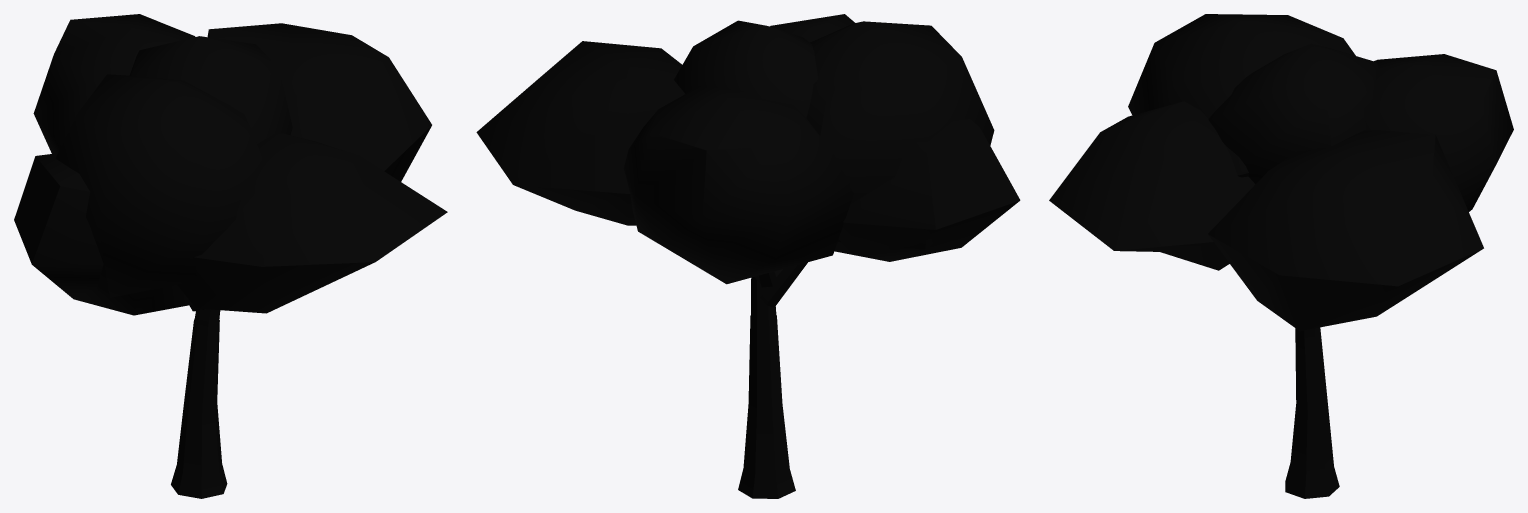
File: SM_oak.fbx
3 views of the same model, side by side, from view 1: azimuth 30°, elevation 25°; view 2: azimuth 150°, elevation 25°; view 3: azimuth 270°, elevation 25° (orthographic). The views are drawn at different scales.
Parts seen in each view (by area): view 1: oak_crown, oak; view 2: oak_crown, oak; view 3: oak_crown, oak.
Boxes of the visible parts, box(x1,y1,x2,y2) form: oak_crown: box(14, 14, 447, 326); oak: box(171, 319, 227, 498); oak_crown: box(476, 14, 1020, 319); oak: box(738, 315, 795, 498); oak_crown: box(1049, 14, 1513, 332); oak: box(1285, 327, 1339, 498).
Size of the model in its own units: 7.45 by 7.18 by 6.82.
